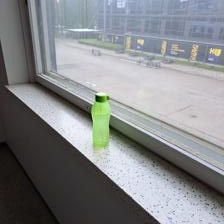bottle: (88, 89, 113, 149)
